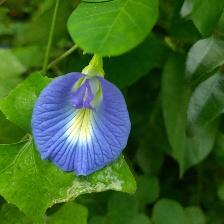shankupushpam: (30, 62, 132, 179)
